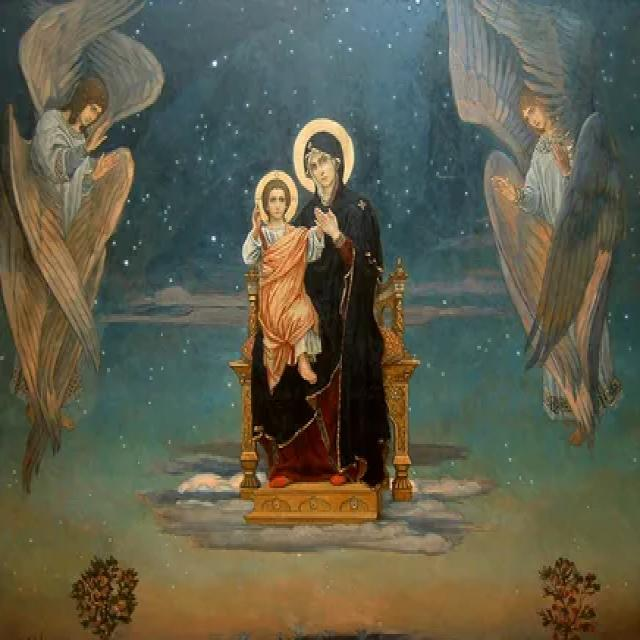mother of god: (236, 118, 417, 512)
